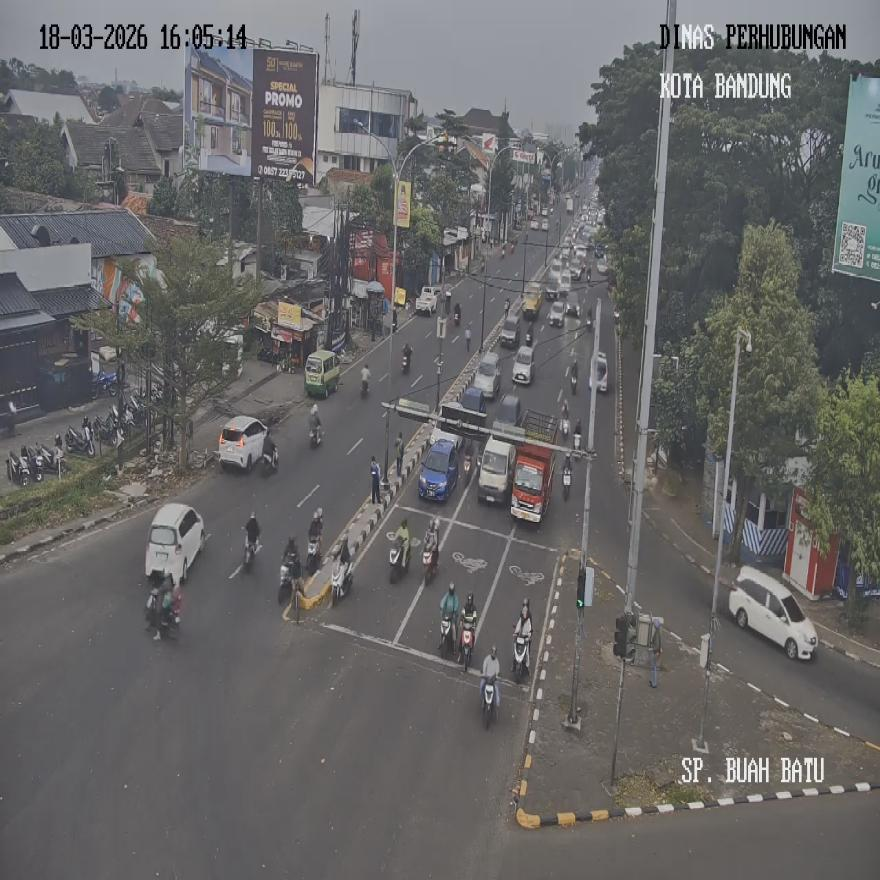Mobil: (729, 566, 818, 660), (144, 504, 205, 584), (218, 416, 267, 469), (419, 441, 458, 501), (478, 439, 515, 501)
Motor: (146, 586, 182, 637), (36, 434, 69, 474), (278, 551, 302, 603), (65, 417, 95, 457), (332, 555, 353, 605), (20, 444, 45, 482), (390, 537, 409, 583), (9, 451, 33, 487), (109, 405, 134, 438), (95, 415, 120, 447), (461, 615, 475, 672), (119, 401, 138, 438), (278, 559, 293, 605), (483, 676, 496, 729), (514, 636, 528, 684), (93, 372, 117, 399), (0, 400, 17, 437), (126, 395, 145, 427), (440, 615, 454, 658), (242, 540, 258, 573), (423, 548, 438, 583), (306, 538, 320, 575), (262, 447, 278, 471), (563, 458, 571, 499), (464, 453, 472, 485), (258, 348, 276, 362), (573, 420, 581, 450), (311, 428, 321, 448), (561, 418, 569, 439), (402, 352, 410, 373), (526, 327, 534, 347), (454, 304, 461, 326), (361, 379, 369, 398), (574, 431, 581, 450), (571, 373, 577, 394), (586, 315, 593, 331), (615, 306, 620, 325), (454, 313, 460, 327), (587, 267, 591, 283), (501, 245, 505, 259), (510, 243, 514, 254)
